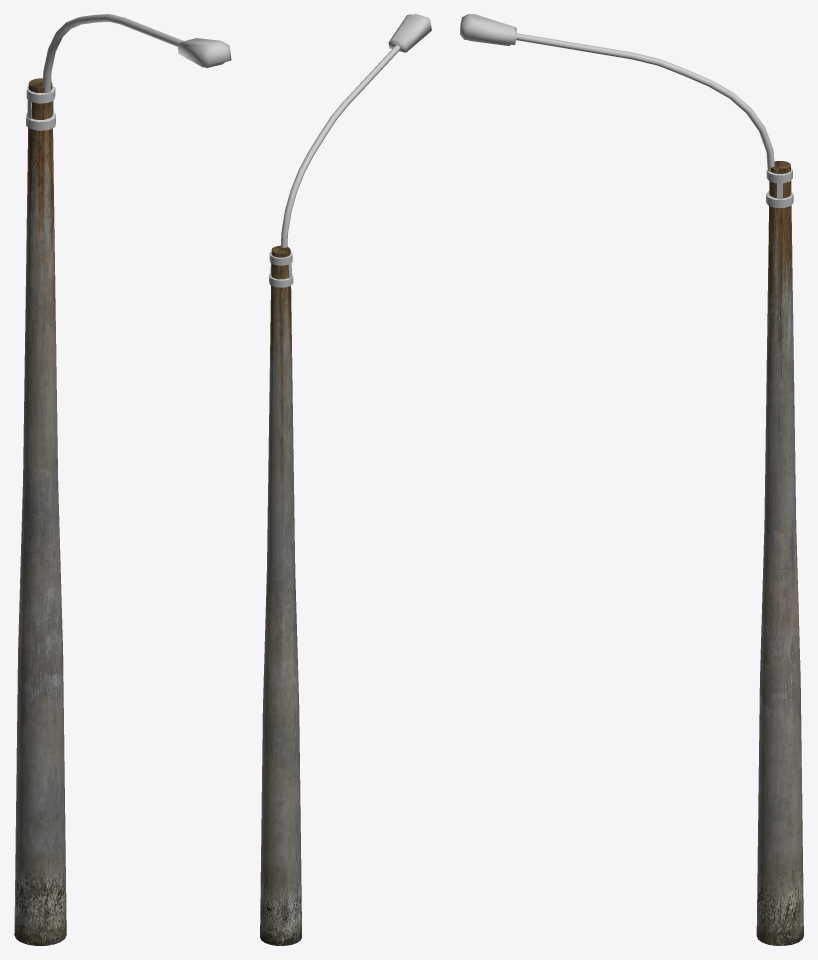
The model's file is RoadLamp3_1.FBX.
The picture shows the model from 3 angles, left to right: view 1: azimuth 30°, elevation 25°; view 2: azimuth 150°, elevation 25°; view 3: azimuth 270°, elevation 25°; orthographic projection. The views are drawn at different scales.
Visible parts, largest first — view 1: LampPillar, LampMetall; view 2: LampPillar, LampMetall; view 3: LampPillar, LampMetall.
Boxes of the visible parts, bbox=[...] form: LampPillar: bbox=[14, 78, 66, 945]; LampMetall: bbox=[26, 14, 231, 130]; LampPillar: bbox=[260, 245, 301, 945]; LampMetall: bbox=[269, 14, 431, 287]; LampPillar: bbox=[756, 161, 803, 945]; LampMetall: bbox=[460, 14, 793, 207].
Bounding box in the file's own units: 7.63 × 166 × 56.41.
